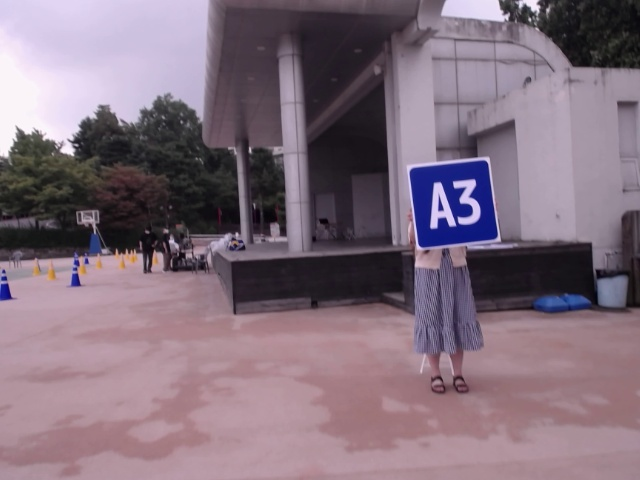delivery_a3: (409, 158, 501, 249)
